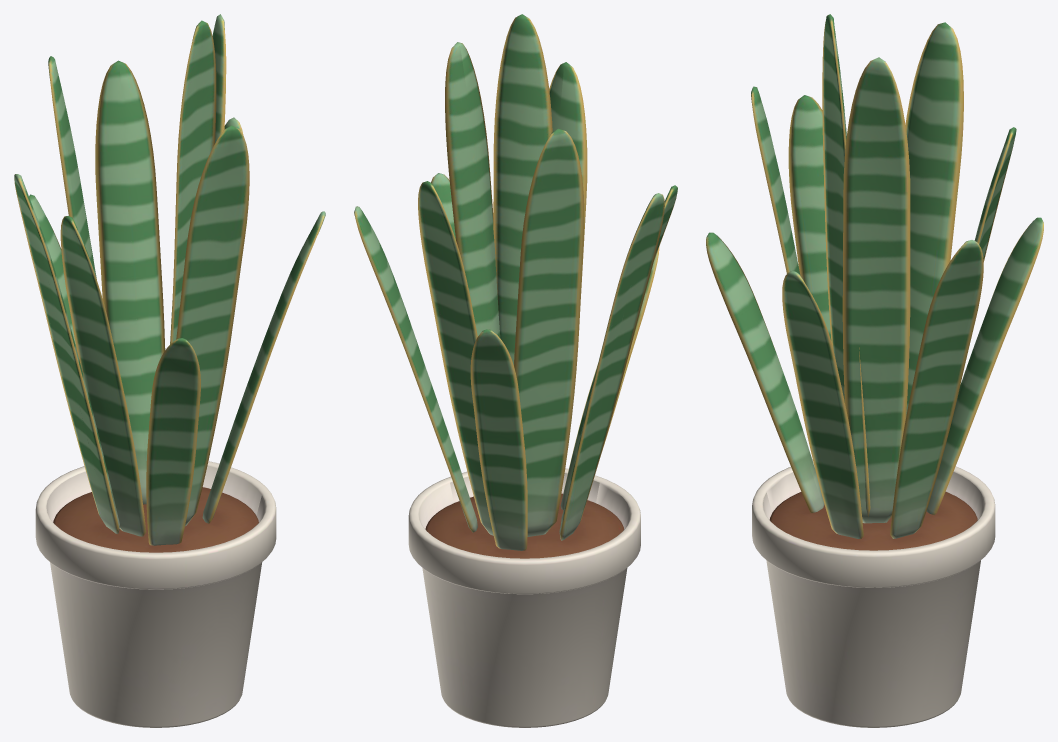
File: snake-plant-leve.glb
3 views of the same model, side by side, from view 1: azimuth 30°, elevation 25°; view 2: azimuth 150°, elevation 25°; view 3: azimuth 270°, elevation 25° (orthographic). The views are drawn at different scales.
Parts seen in each view (by area): view 1: snake-plant_body; view 2: snake-plant_body; view 3: snake-plant_body.
Part boxes in pixels (x1,y1,x2,y2): snake-plant_body: (14,14,325,727); snake-plant_body: (354,14,677,727); snake-plant_body: (706,14,1043,727).
Size of the model in its own units: 0.2828 by 0.6754 by 0.2998.
Materials: 1 (1 with a texture image).
